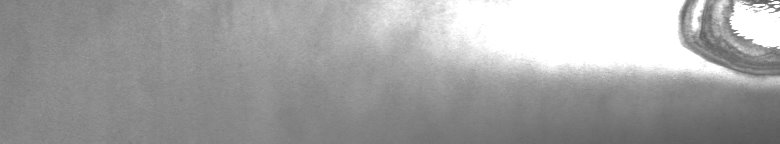ke: (544, 4, 776, 96)
